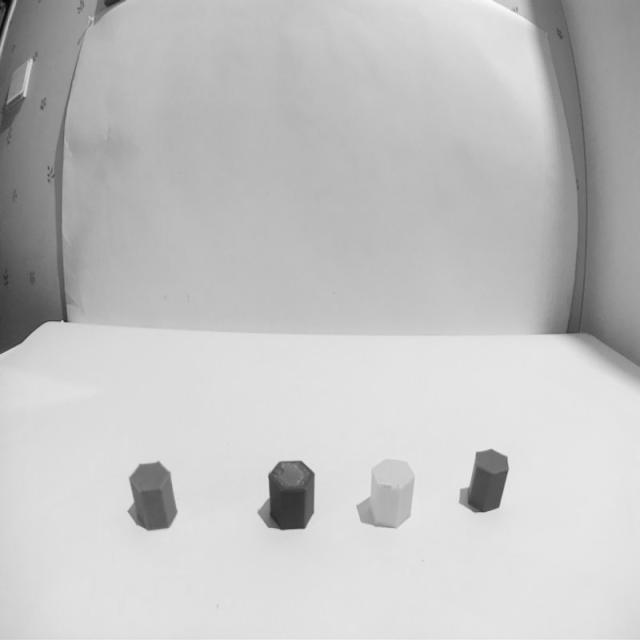hexagon: (128, 461, 179, 534), (269, 457, 316, 535), (370, 455, 416, 531), (468, 446, 509, 515)
